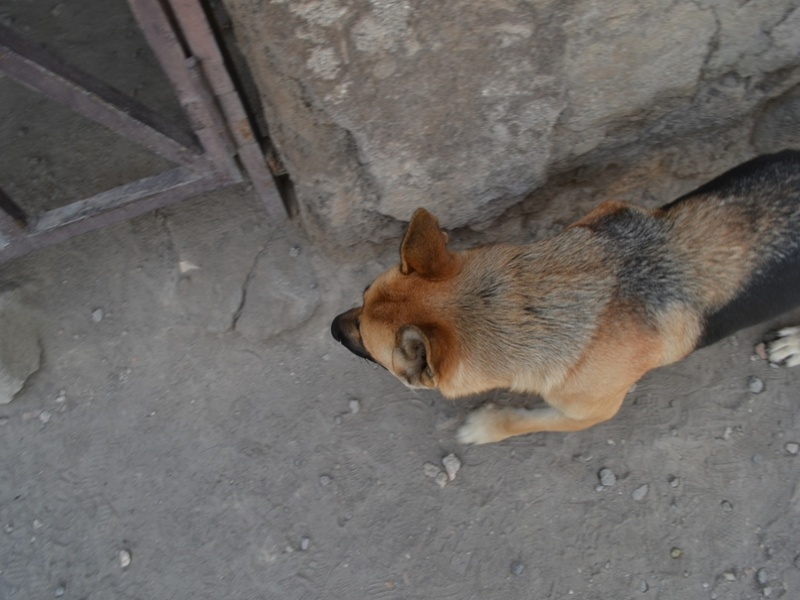dog: (321, 142, 800, 453)
